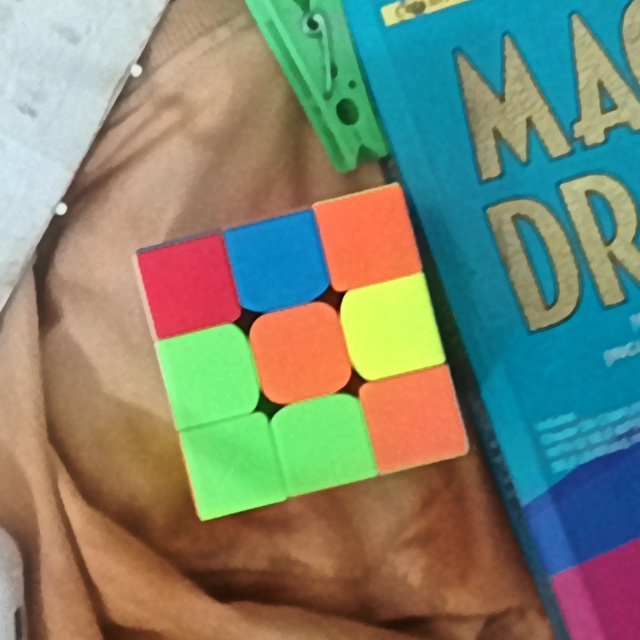tile: (262, 319, 337, 391), (171, 341, 246, 413), (202, 428, 273, 503), (151, 251, 224, 321), (334, 202, 404, 274), (388, 379, 452, 454), (362, 291, 428, 363), (248, 227, 316, 296), (289, 410, 354, 479)
